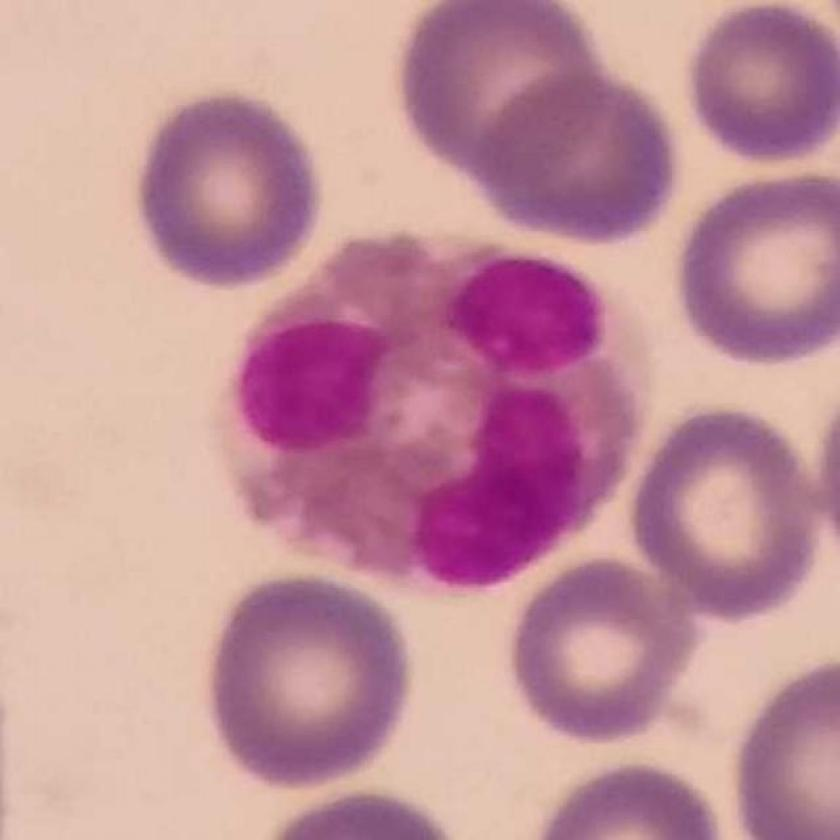eosinophil: (209, 224, 655, 592)
